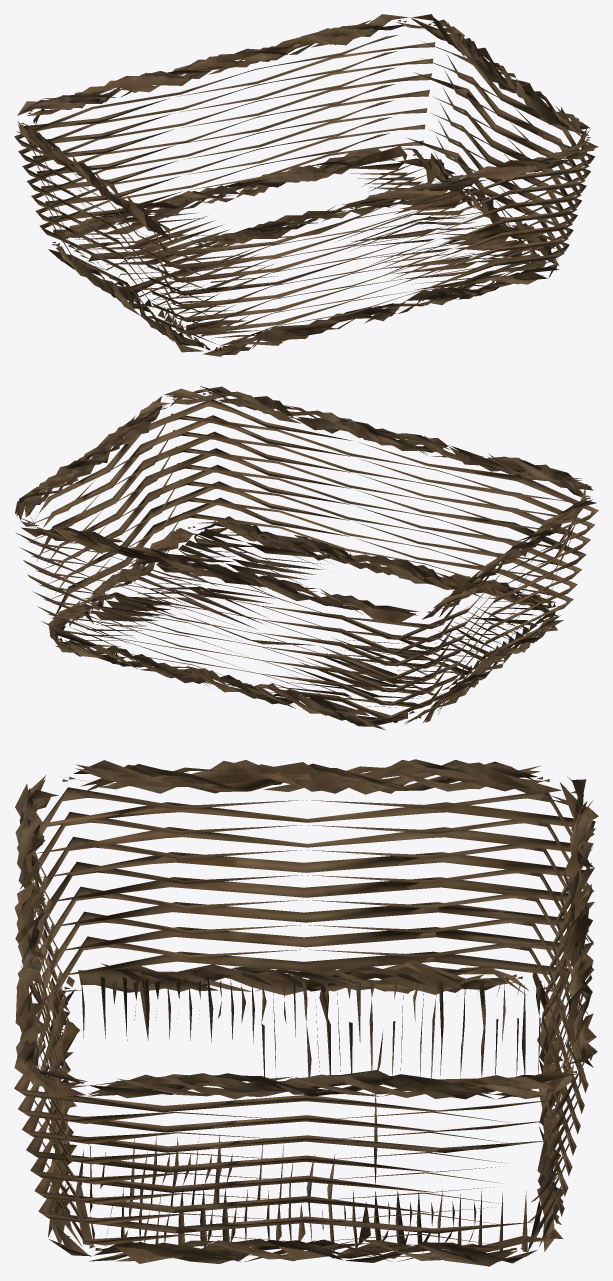
File: wicker_basket_01.glb
3 views of the same model, one above another, from view 1: azimuth 30°, elevation 25°; view 2: azimuth 150°, elevation 25°; view 3: azimuth 270°, elevation 25° (orthographic). The views are drawn at different scales.
Parts seen in each view (by area): view 1: wicker_basket_01; view 2: wicker_basket_01; view 3: wicker_basket_01.
Boxes of the visible parts, x1,y1,x2,y2 form: wicker_basket_01: (14, 14, 598, 356); wicker_basket_01: (14, 386, 598, 730); wicker_basket_01: (14, 759, 598, 1266).
Size of the model in its own units: 0.383 by 0.1185 by 0.2933.
Materials: 1 (1 with a texture image).
